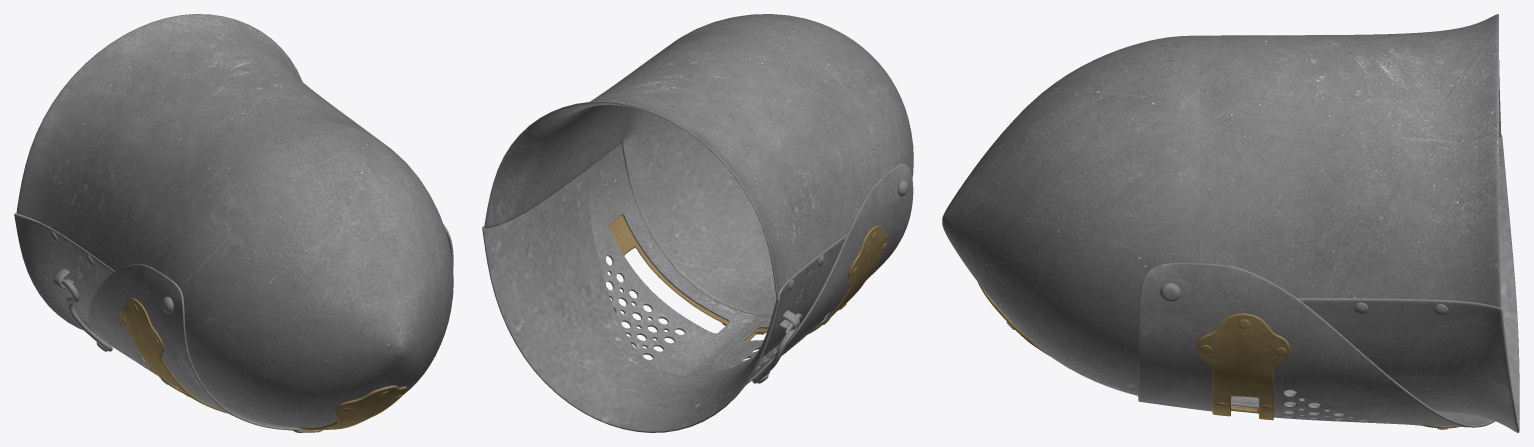
File: 13584_Pot_Helmet_with_Visor_v1_L3.obj
3 renders of one model, left to right at view 1: azimuth 30°, elevation 25°; view 2: azimuth 150°, elevation 25°; view 3: azimuth 270°, elevation 25°, orthographic. The views are drawn at different scales.
Parts seen in each view (by area): view 1: objobjobjCylinder01, objobjobjCylinder44, objSphere31; view 2: objobjobjCylinder01, objobjobjCylinder44, objSphere31; view 3: objobjobjCylinder01, objobjobjCylinder44.
Boxes of the visible parts, x1=… form: objobjobjCylinder01: x1=14, y1=14, x2=453, y2=430; objobjobjCylinder44: x1=119, y1=298, x2=407, y2=432; objSphere31: x1=53, y1=268, x2=112, y2=351; objobjobjCylinder01: x1=482, y1=14, x2=913, y2=432; objobjobjCylinder44: x1=609, y1=215, x2=887, y2=340; objSphere31: x1=752, y1=310, x2=802, y2=383; objobjobjCylinder01: x1=942, y1=14, x2=1519, y2=432; objobjobjCylinder44: x1=978, y1=283, x2=1458, y2=428.
Size of the model in its own units: 10.69 by 11.06 by 14.91.
Materials: 2 (2 with a texture image).
